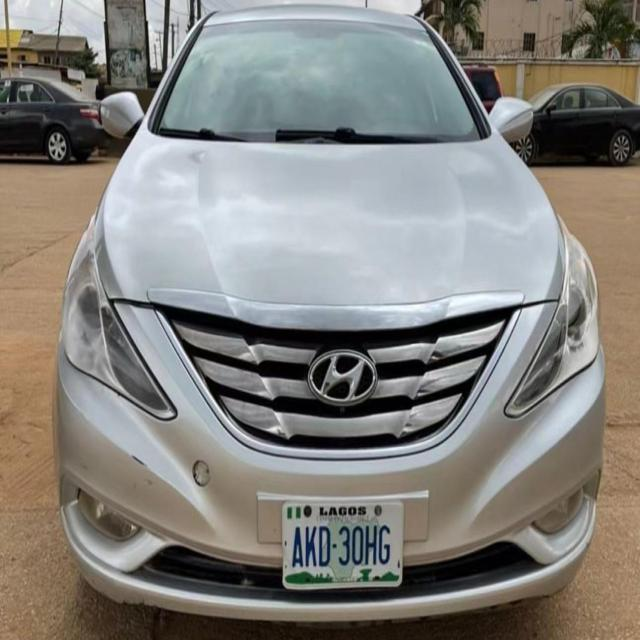Nigerian License Plate - vdataset benjamin-daria: (286, 497, 403, 588)
